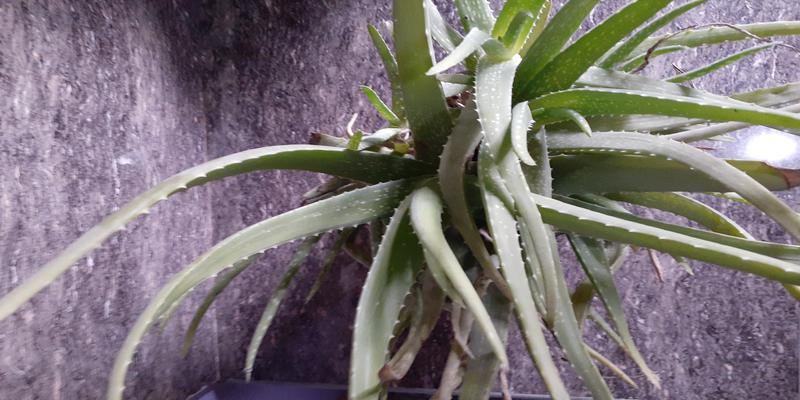Aloevera: (221, 45, 728, 335)
